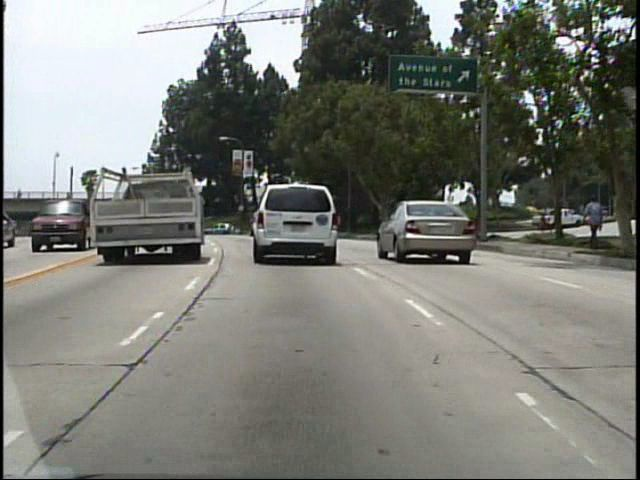person: (577, 191, 602, 256), (14, 185, 24, 204)
